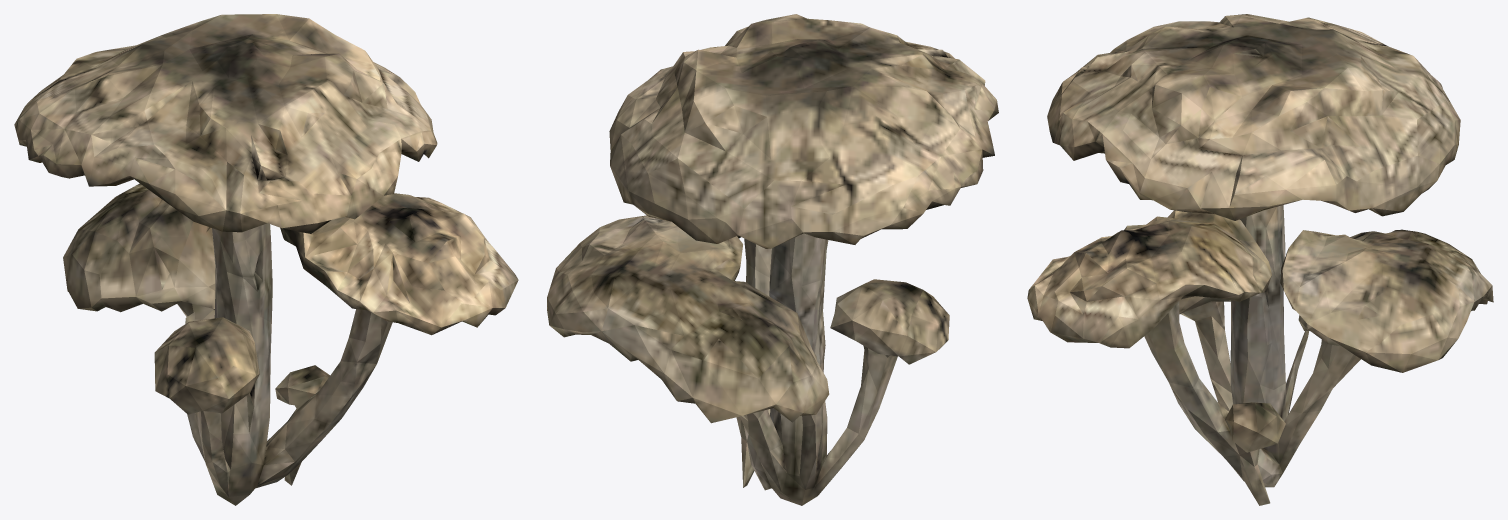
Rendered from P_Caogu_04.obj.
3 views of the same model, side by side, from view 1: azimuth 30°, elevation 25°; view 2: azimuth 150°, elevation 25°; view 3: azimuth 270°, elevation 25° (orthographic). The views are drawn at different scales.
Bounding box in the file's own units: 0.4396 × 0.5036 × 0.486.
Materials: 1 (1 with a texture image).
